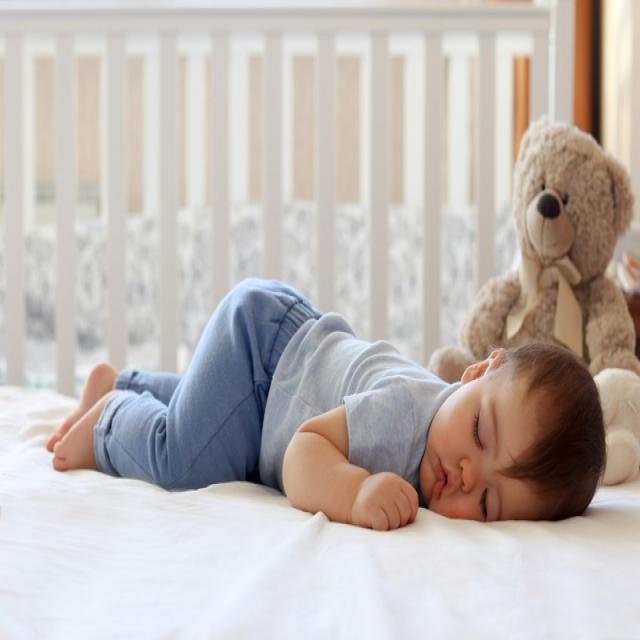people: (40, 261, 611, 568)
